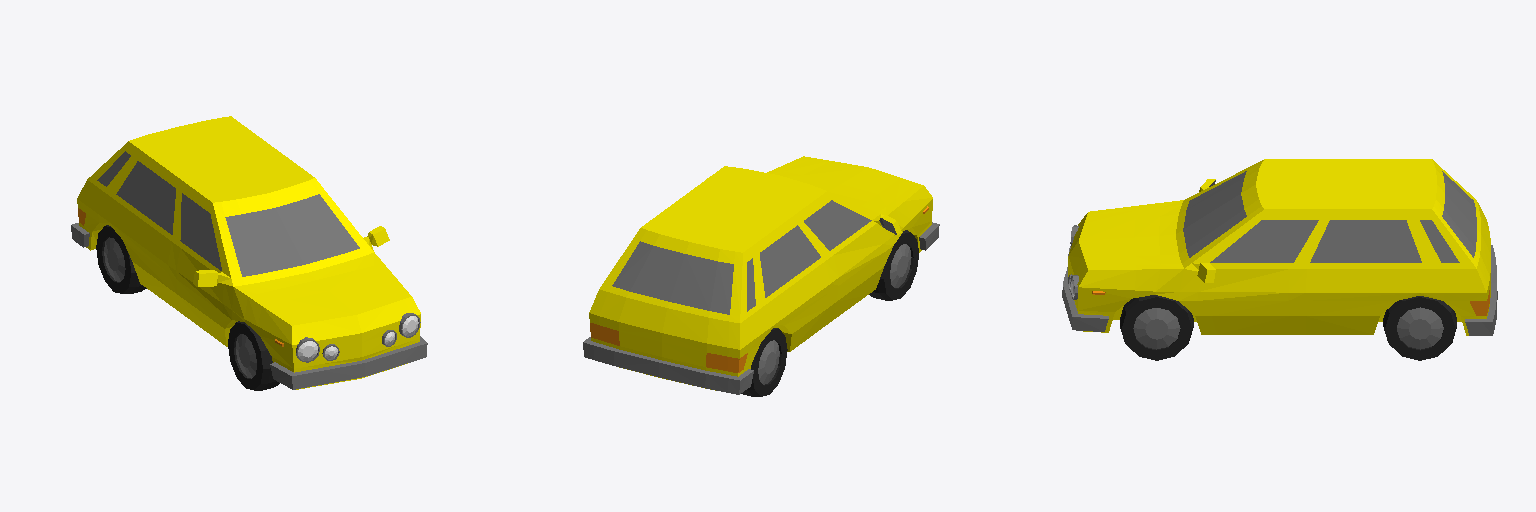
3 renders of one model, left to right at view 1: azimuth 30°, elevation 25°; view 2: azimuth 150°, elevation 25°; view 3: azimuth 270°, elevation 25°, orthographic.
Parts seen in each view (by area): view 1: Car; view 2: Car; view 3: Car.
Boxes of the visible parts, x1=… form: Car: x1=71, y1=116, x2=427, y2=390; Car: x1=583, y1=156, x2=939, y2=396; Car: x1=1062, y1=159, x2=1497, y2=360.
Size of the model in its own units: 45.5 by 32.33 by 89.11.
1 materials, 1 textured.